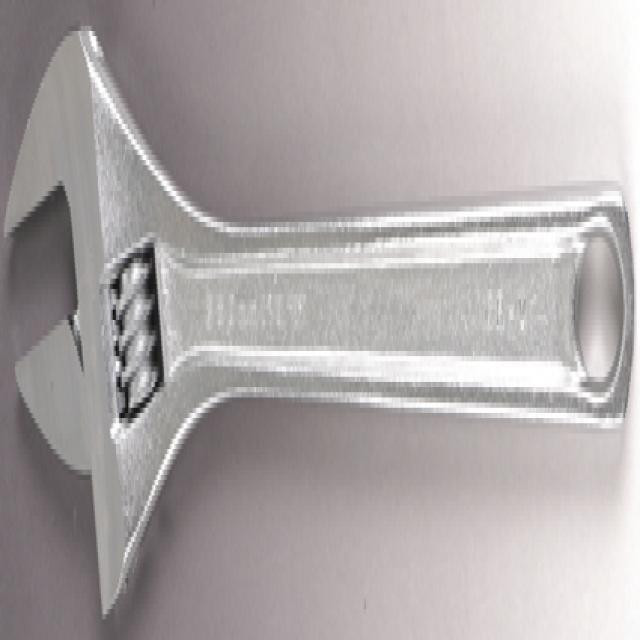wrench: (2, 15, 634, 618)
